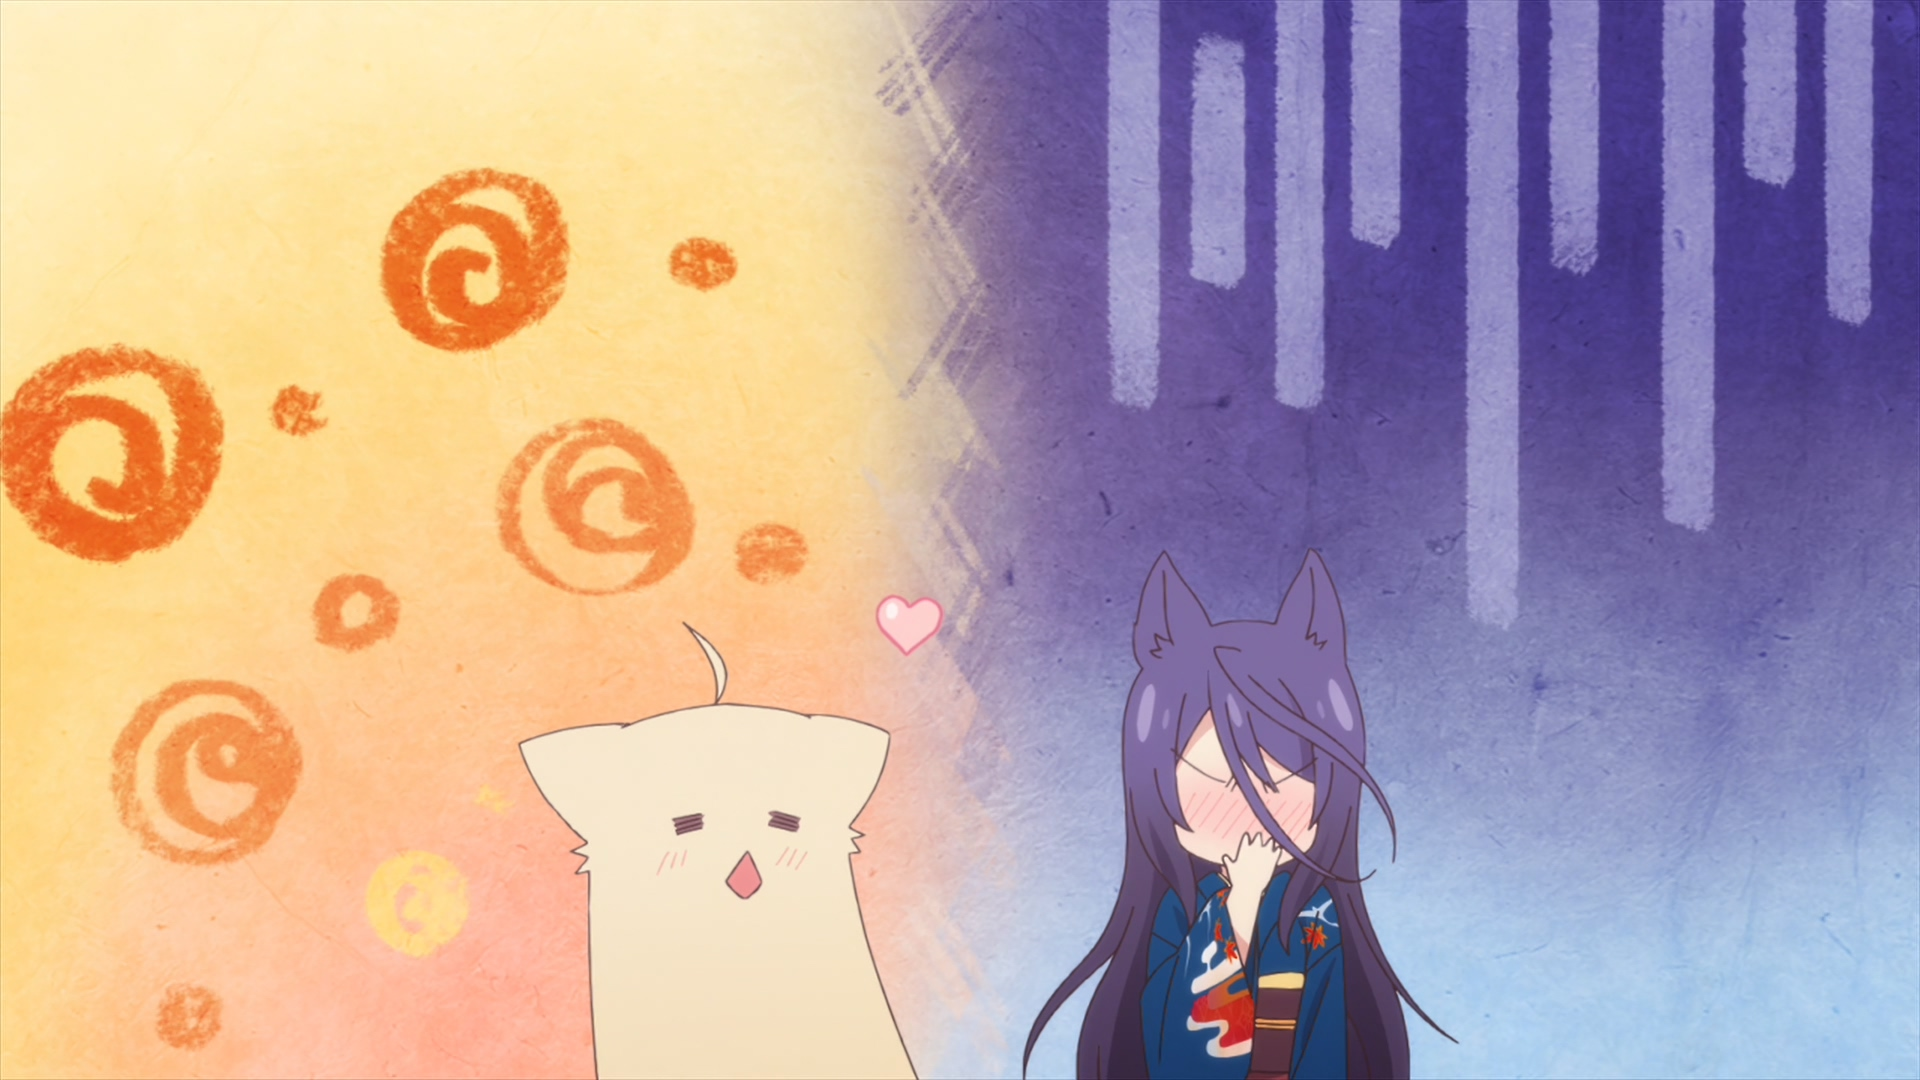柚: (520, 622, 914, 1080)
皋: (1025, 553, 1458, 1080)
